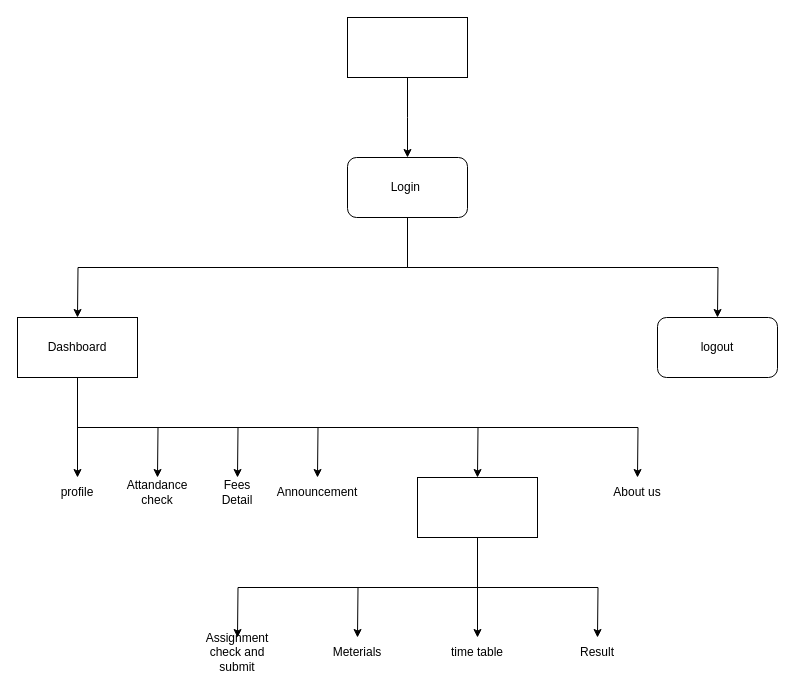
Image size: 795x691. Some labels were removed from this diagram. The centre of each missing label's shape, as x and y in pixels:
"Student Hub Portal" goes at point 407,47.
"Work" goes at point 477,507.
